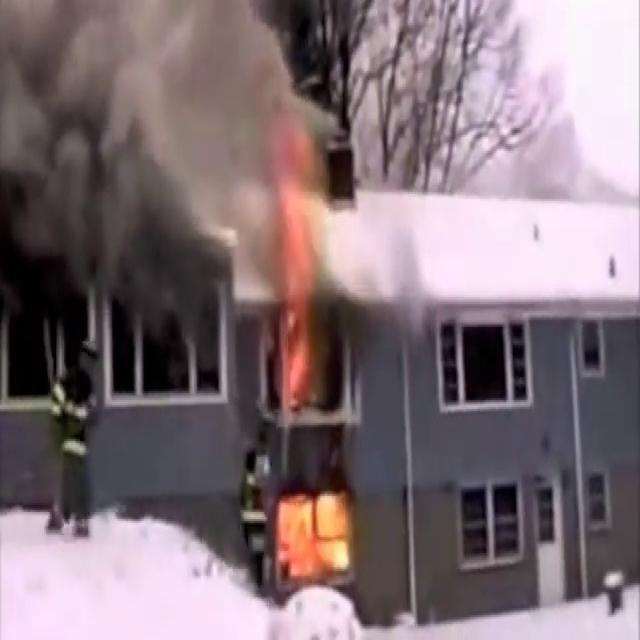Fire: (267, 129, 325, 417), (270, 470, 364, 593)
Smoke: (0, 0, 321, 254)
